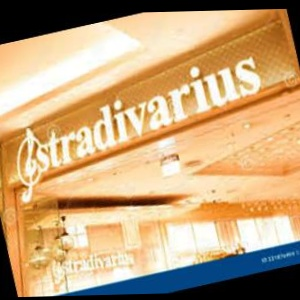stradivarius: (62, 79, 300, 98)
